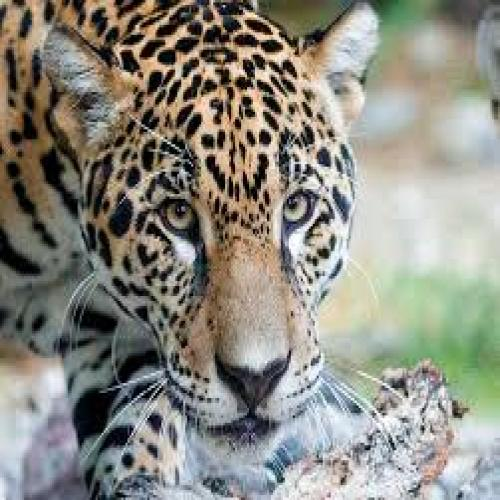jaguar_not-endangered: (0, 0, 380, 477)
